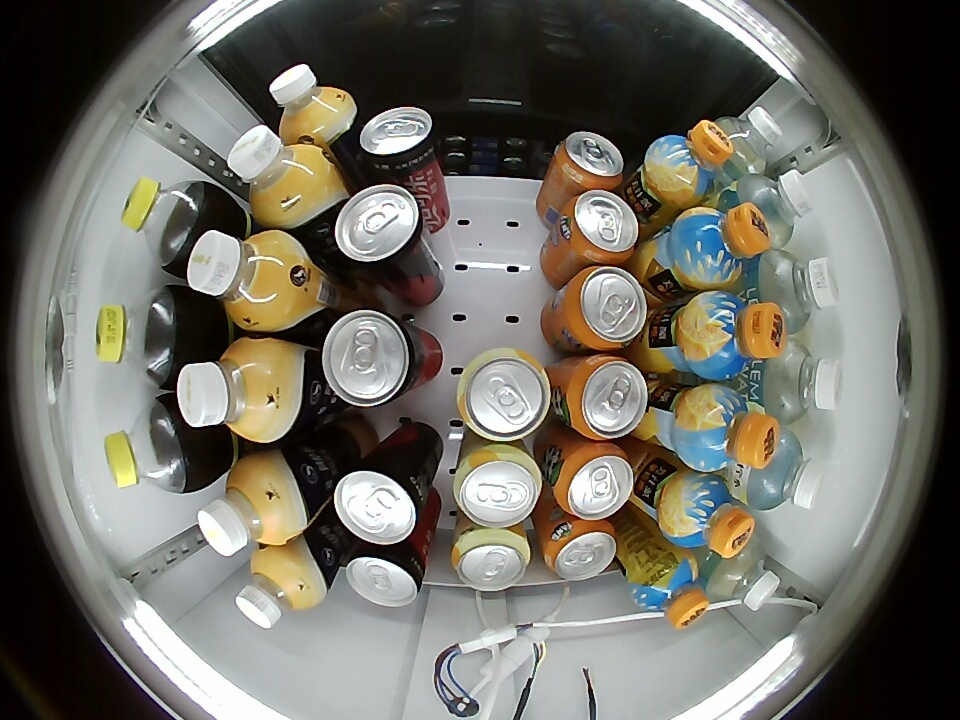asamu: (175, 338, 284, 441), (186, 229, 295, 326), (196, 462, 293, 558), (227, 124, 322, 220), (269, 63, 353, 140), (235, 551, 315, 630)
baishikele: (103, 396, 194, 495), (95, 286, 182, 386), (120, 176, 207, 269)
fenda: (565, 265, 648, 352), (566, 354, 649, 440), (555, 443, 634, 520), (559, 190, 639, 265), (545, 520, 617, 581), (555, 131, 625, 190)
guolicheng: (685, 291, 787, 380), (679, 385, 779, 470), (675, 206, 771, 290), (663, 473, 755, 556), (646, 121, 731, 201), (629, 551, 709, 629)
lingdukele: (318, 309, 431, 408), (331, 183, 429, 279), (333, 450, 430, 546), (356, 106, 437, 179), (345, 538, 426, 608)
mangguoxiaolao: (457, 348, 552, 442), (453, 444, 543, 528), (452, 528, 531, 592)
qinningshui: (759, 248, 840, 335), (765, 336, 843, 422), (744, 430, 824, 513), (736, 168, 815, 247), (704, 540, 782, 614), (707, 105, 783, 178)
